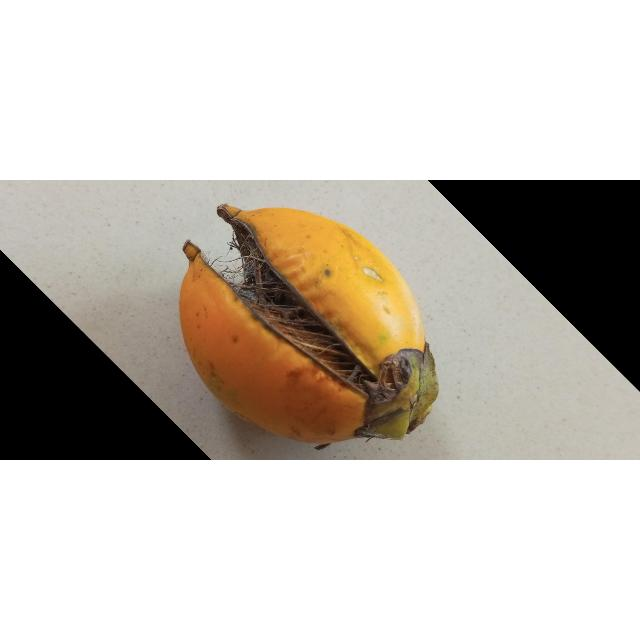damaged: (179, 204, 438, 450)
